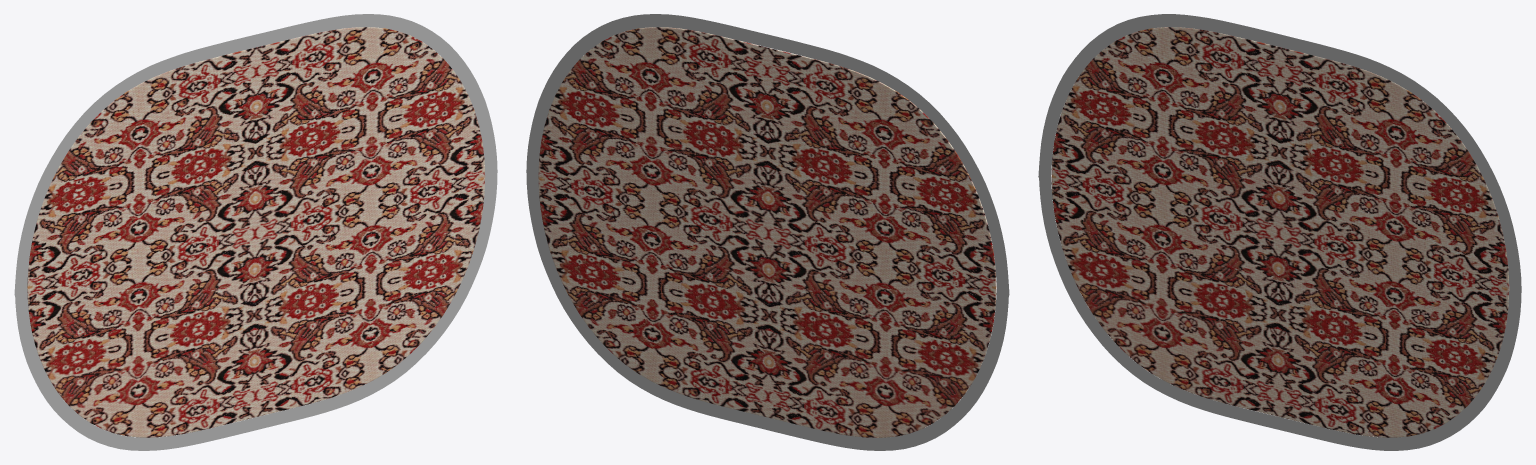
Rendered from rug.dae.
3 views of the same model, side by side, from view 1: azimuth 30°, elevation 25°; view 2: azimuth 150°, elevation 25°; view 3: azimuth 330°, elevation 25° (orthographic).
Visible parts, largest first — view 1: PersianAreaRug, Fringe; view 2: PersianAreaRug, Fringe; view 3: PersianAreaRug, Fringe.
Part boxes in pixels (x1,y1,x2,y2): PersianAreaRug: (27,27,485,437); Fringe: (14,14,497,450); PersianAreaRug: (538,27,996,437); Fringe: (526,14,1009,450); PersianAreaRug: (1051,27,1509,437); Fringe: (1038,14,1521,450).
Bounding box in the file's own units: 3.96 × 0.00953 × 3.1.
